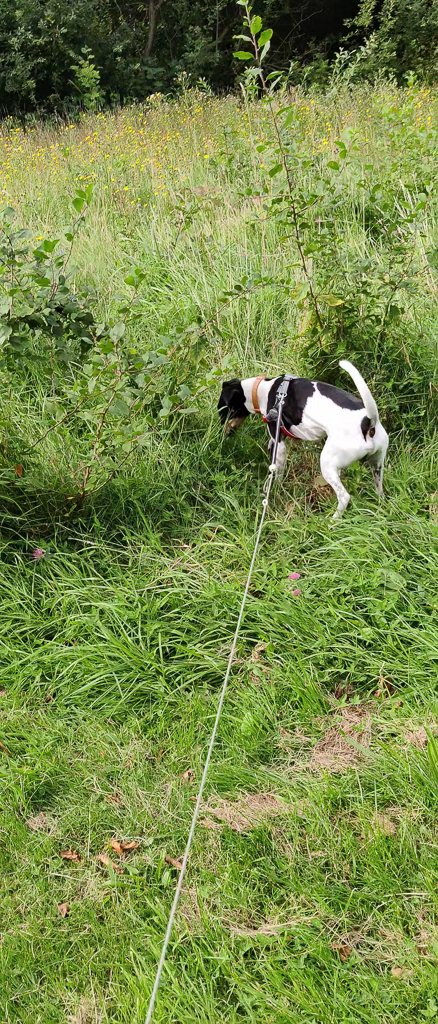Dog: (204, 350, 398, 531)
